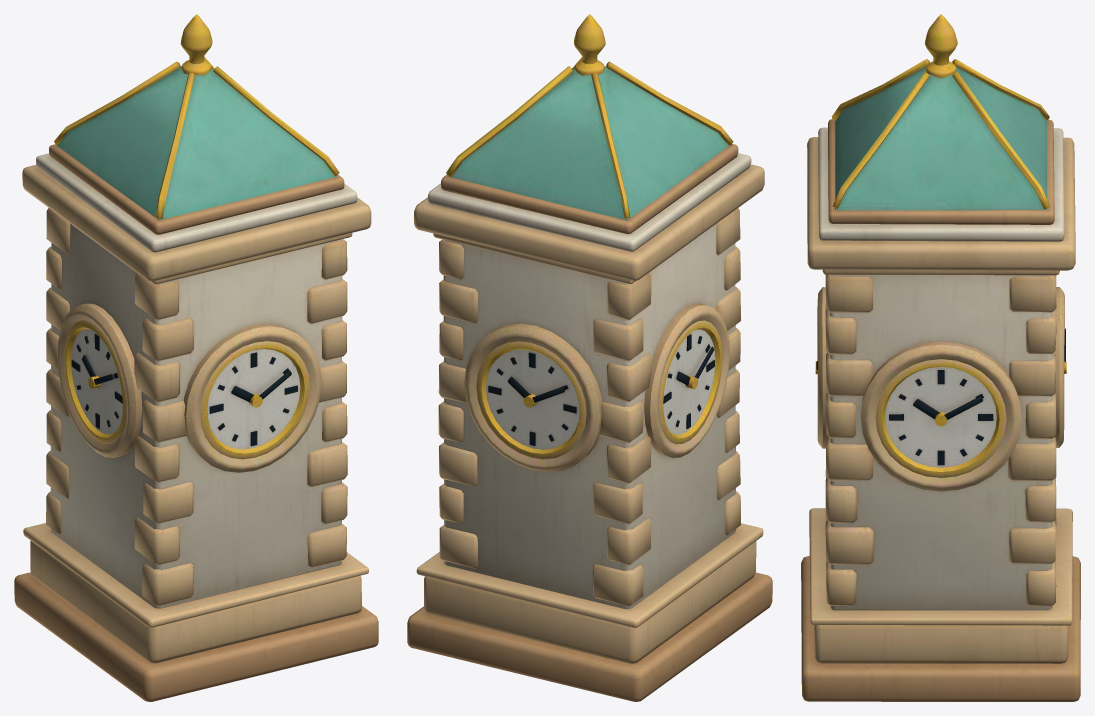
The model's file is clock-tower.glb.
3 views of the same model, side by side, from view 1: azimuth 30°, elevation 25°; view 2: azimuth 150°, elevation 25°; view 3: azimuth 270°, elevation 25° (orthographic). The views are drawn at different scales.
Parts seen in each view (by area): view 1: tower; view 2: tower; view 3: tower.
Part boxes in pixels (box(x1,y1,x2,y2)): tower: box(14, 14, 378, 701); tower: box(407, 14, 772, 701); tower: box(801, 14, 1080, 701).
Size of the model in its own units: 2 by 5 by 2.01.
Materials: 7 (7 with a texture image).
